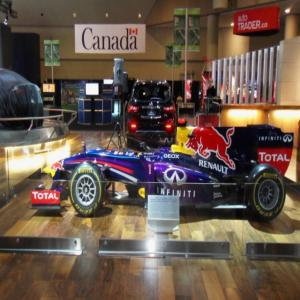Vehicle-registration-plate: (149, 111, 157, 119)
